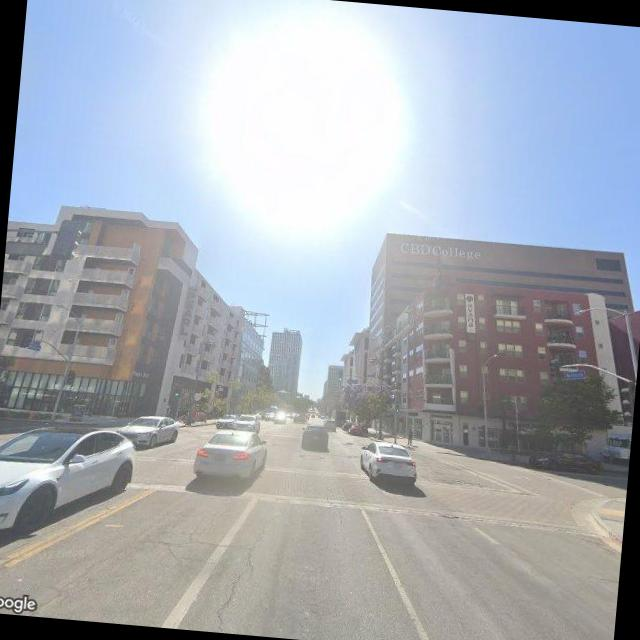pothole: (207, 520, 266, 634)
